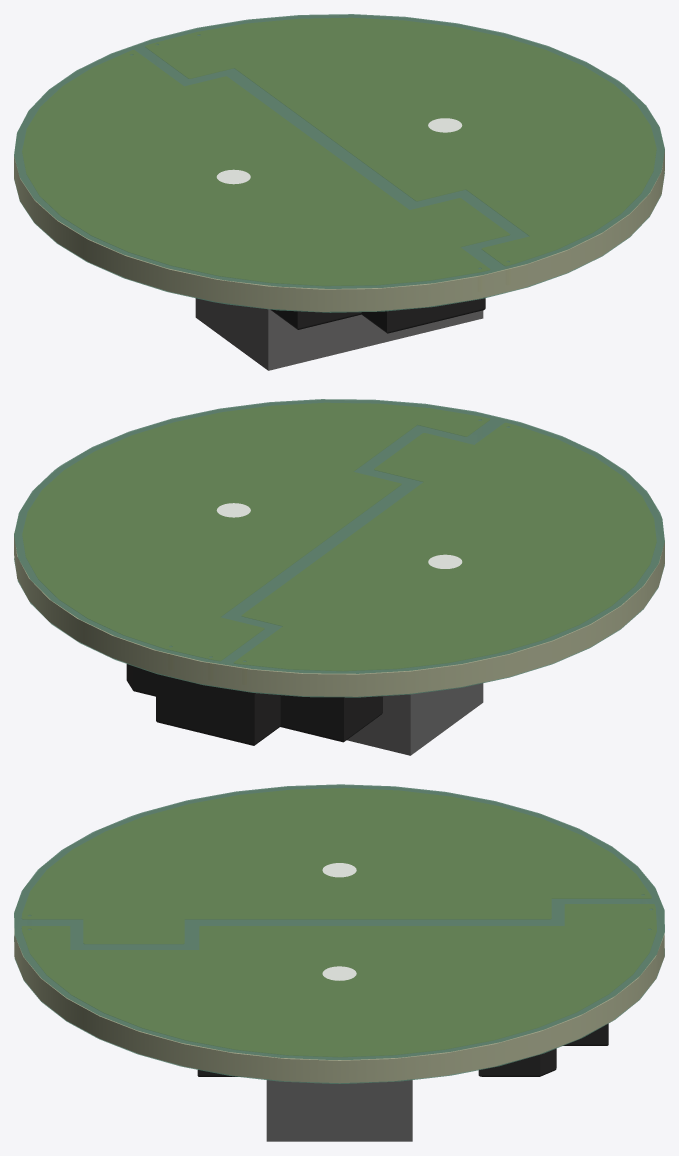
Rendered from ghibli-soot-sprites-sao.glb.
3 views of the same model, one above another, from view 1: azimuth 30°, elevation 25°; view 2: azimuth 150°, elevation 25°; view 3: azimuth 270°, elevation 25° (orthographic).
Parts seen in each view (by area): view 1: =>[0:1:1:11], =>[0:1:1:3]; view 2: =>[0:1:1:11], =>[0:1:1:3]; view 3: =>[0:1:1:11], =>[0:1:1:3].
Boxes of the visible parts, <box> form: =>[0:1:1:11]: <box>14,14,664,312</box>; =>[0:1:1:3]: <box>22,18,655,370</box>; =>[0:1:1:11]: <box>14,399,664,697</box>; =>[0:1:1:3]: <box>23,403,655,755</box>; =>[0:1:1:11]: <box>14,784,664,1083</box>; =>[0:1:1:3]: <box>22,788,656,1141</box>.
Bounding box in the file's own units: 0.04 × 0.0113 × 0.0399.
2 materials, 2 textured.
